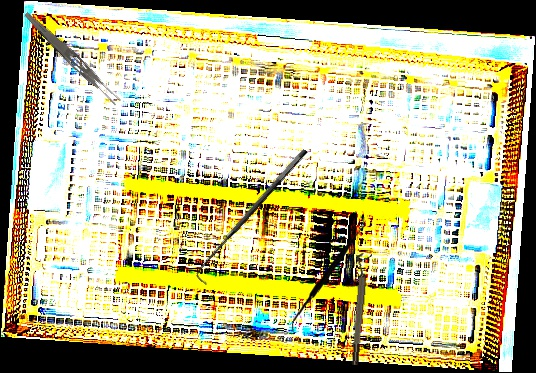Dressing Forceps: (19, 9, 124, 109)
Fixation Ring: (345, 252, 372, 366)
Hook Surgical: (189, 146, 318, 286)
Spatula Surgical: (291, 213, 366, 336)
